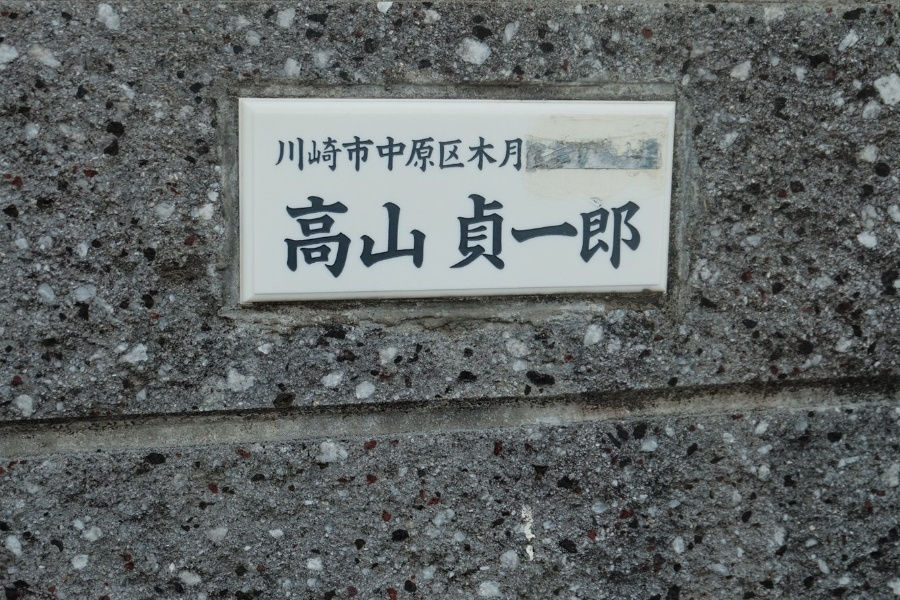text: (625, 194, 641, 282), (289, 194, 304, 282), (305, 194, 320, 282), (321, 194, 336, 282), (337, 194, 352, 282), (353, 194, 368, 282), (369, 194, 384, 282), (385, 194, 400, 282), (401, 194, 416, 282), (417, 194, 432, 282), (433, 194, 448, 282), (449, 194, 464, 282), (465, 194, 480, 282), (481, 194, 496, 282), (497, 194, 512, 282), (513, 194, 528, 282), (529, 194, 544, 282), (545, 194, 560, 282), (561, 194, 576, 282), (577, 194, 592, 282), (593, 194, 608, 282), (609, 194, 624, 282), (289, 137, 304, 176), (305, 137, 320, 176), (321, 137, 336, 176), (337, 137, 352, 176), (353, 137, 368, 176), (369, 137, 384, 176), (385, 137, 400, 176), (401, 137, 416, 176), (417, 137, 432, 176), (433, 137, 448, 176), (449, 137, 464, 176), (465, 137, 480, 176), (481, 137, 496, 176), (497, 137, 512, 176), (513, 137, 524, 176), (278, 137, 288, 176), (285, 194, 288, 282)
